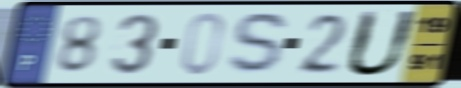0: (179, 11, 227, 78)
2: (294, 11, 351, 77)
3: (107, 11, 161, 77)
8: (55, 14, 105, 75)
S: (224, 10, 294, 79)
U: (341, 8, 423, 79)
